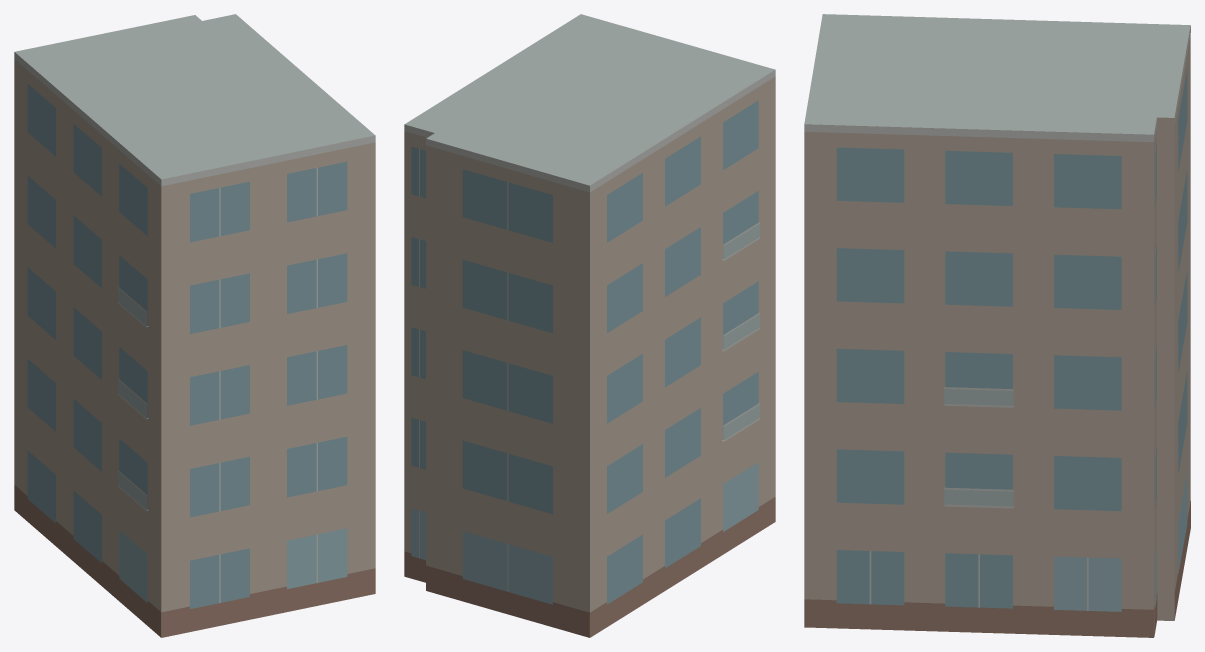
Rendered from survey-upis-32657878.glb.
3 renders of one model, left to right at view 1: azimuth 30°, elevation 25°; view 2: azimuth 150°, elevation 25°; view 3: azimuth 270°, elevation 25°, orthographic. The views are drawn at different scales.
Parts seen in each view (by area): view 1: survey-upis-32657878.tmp; view 2: survey-upis-32657878.tmp; view 3: survey-upis-32657878.tmp.
Part boxes in pixels (left/top/right/bottom): survey-upis-32657878.tmp: left=14, top=14, right=375, bottom=637; survey-upis-32657878.tmp: left=404, top=14, right=775, bottom=637; survey-upis-32657878.tmp: left=804, top=14, right=1190, bottom=637.
Bounding box in the file's own units: 8.4 × 16.3 × 11.36.
